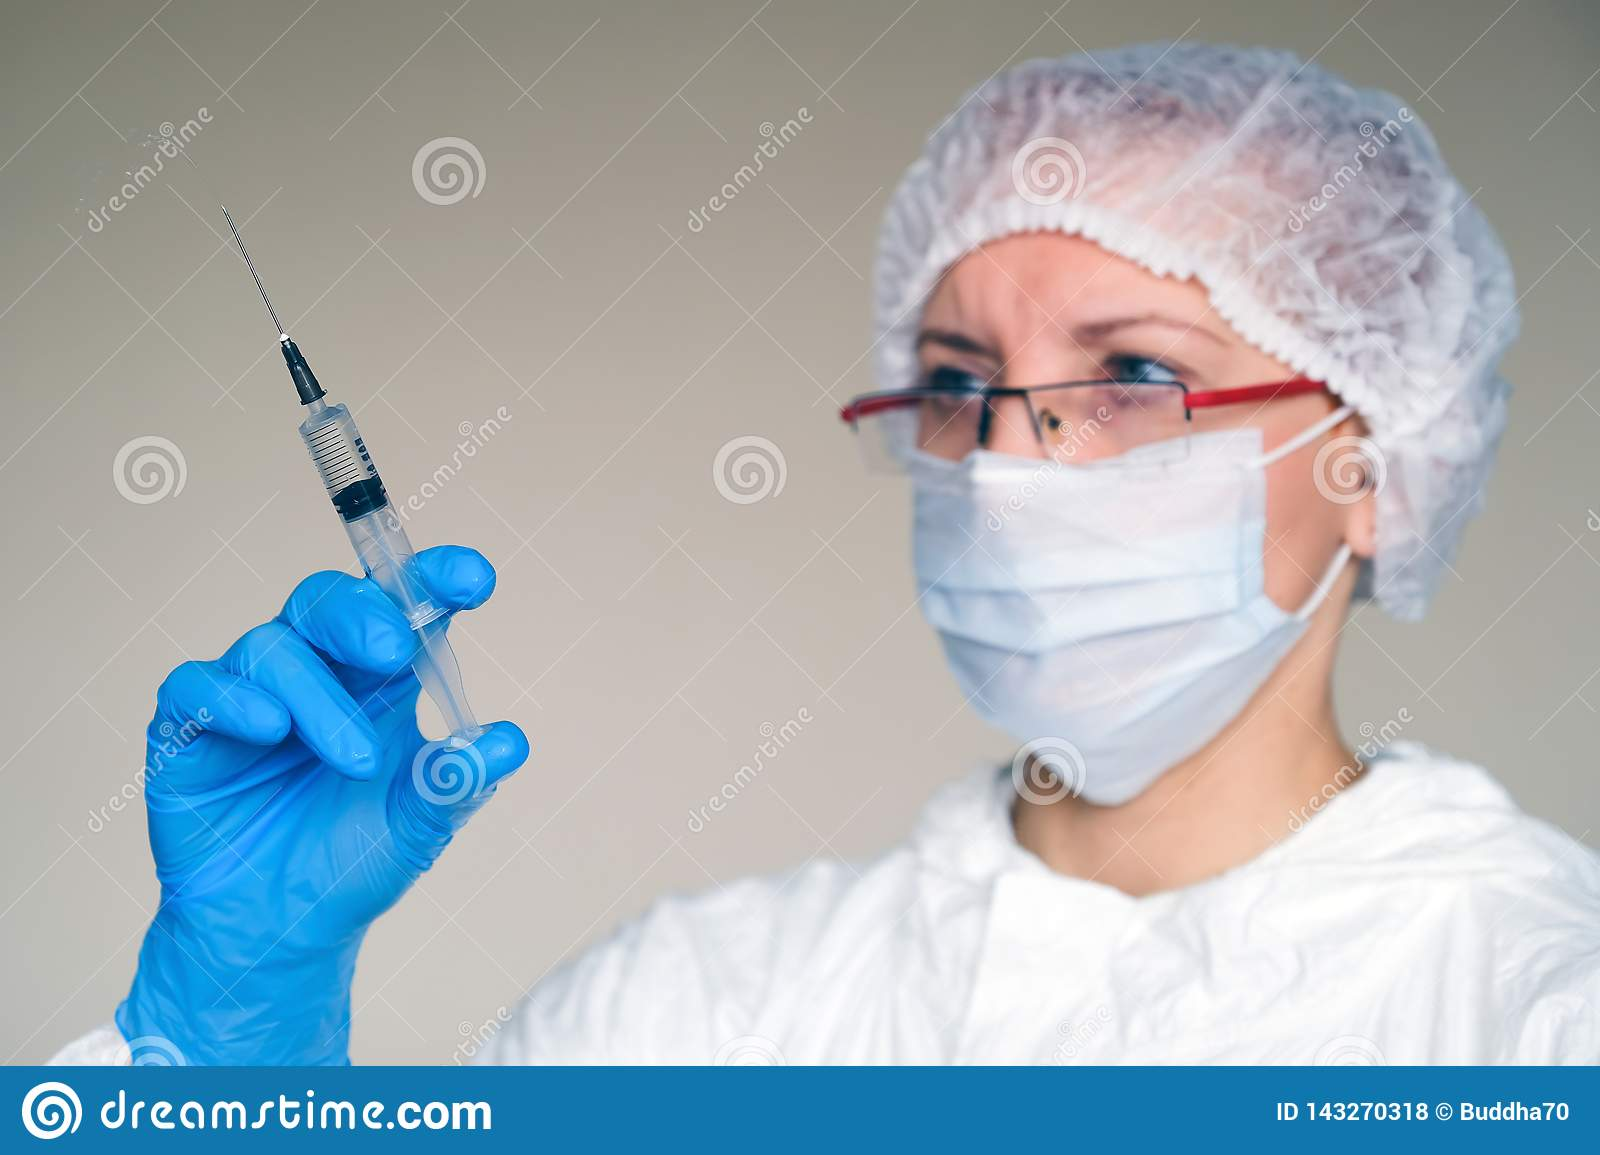mask: (908, 431, 1308, 811)
